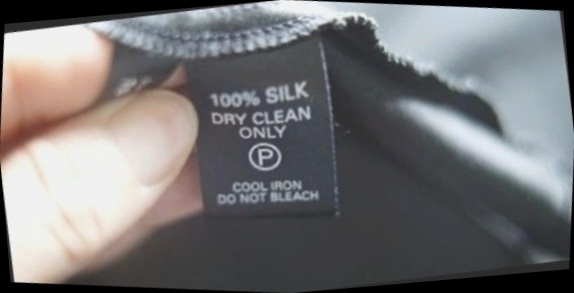dry_clean_any_solvent_except_trichloroethylene: (243, 134, 289, 177)
